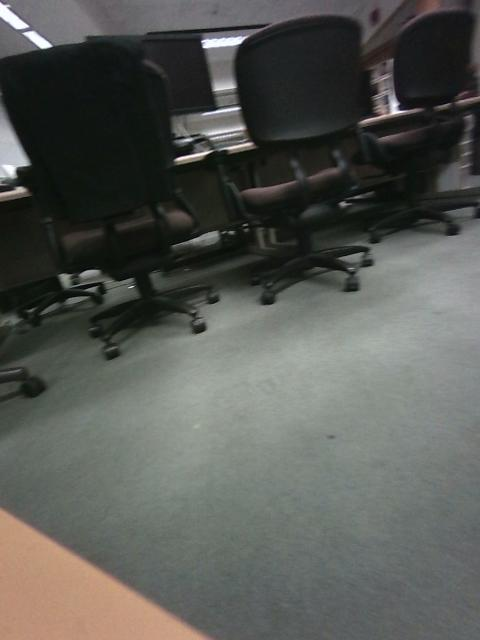block: (107, 312, 157, 355)
